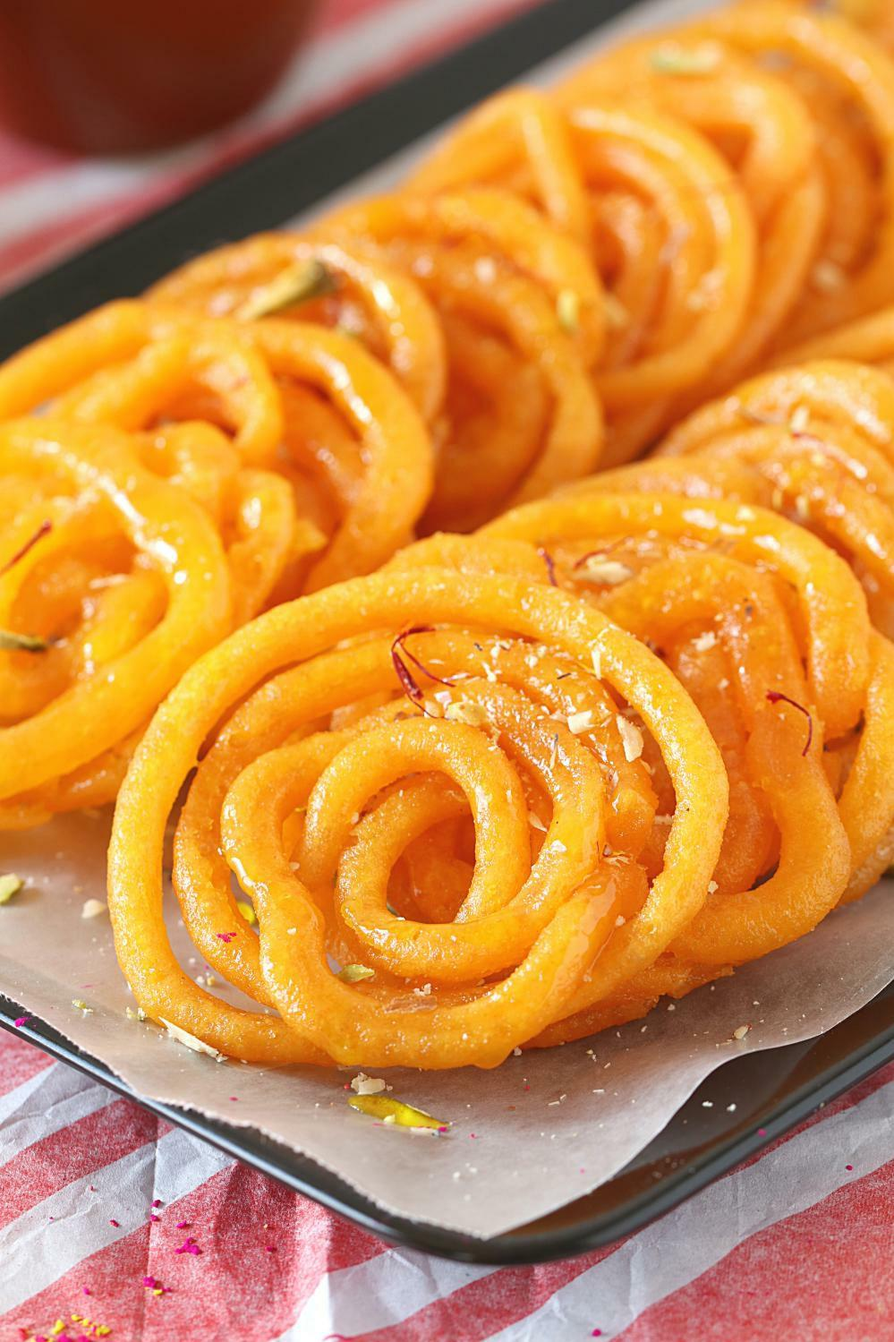Jalebi: (0, 0, 894, 1081)
